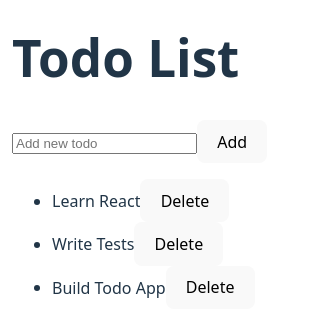
Test: TodoList Component › can add a new todo
Type "New Todo" into the field with placeholder "Add new todo" at (104, 143), box [12, 133, 197, 154]
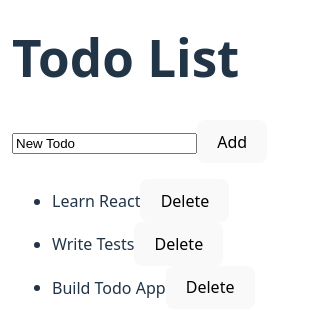
Click the button "Add" at (232, 142), box [197, 120, 267, 163]
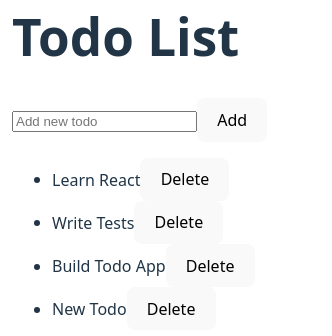
Expected: the text "New Todo" is shown, [52, 298, 127, 320]
